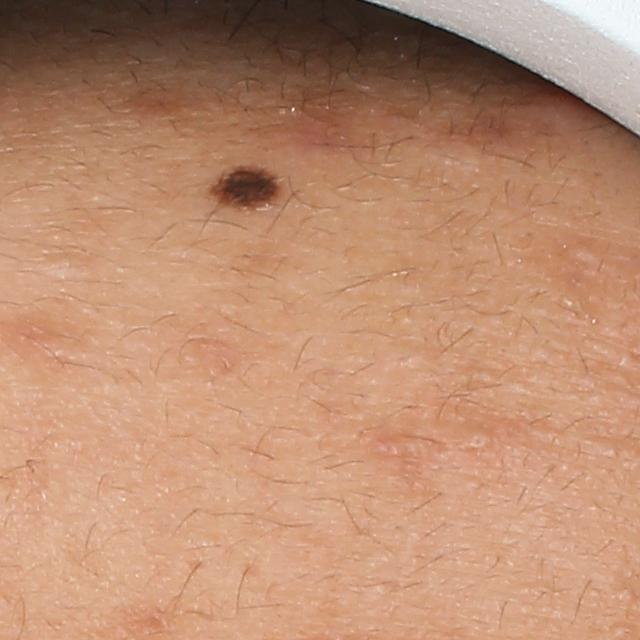comedo: (467, 430, 492, 451)
nevus: (217, 157, 293, 209)
